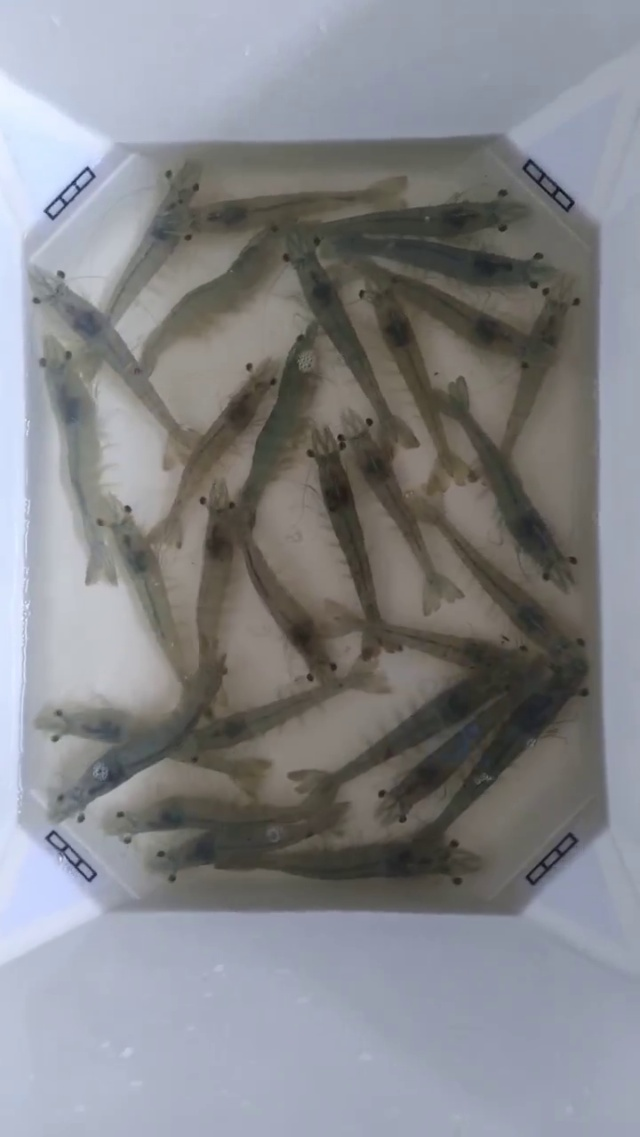shrimp: (521, 418, 639, 704), (566, 108, 639, 486), (566, 489, 639, 785), (68, 453, 170, 655), (20, 639, 125, 828), (58, 757, 186, 904), (149, 383, 255, 551), (398, 759, 514, 912), (70, 294, 186, 443), (87, 759, 204, 902), (167, 148, 272, 297), (259, 562, 363, 709), (325, 715, 416, 877), (500, 273, 576, 457), (0, 150, 52, 418), (169, 473, 251, 631), (169, 627, 259, 770), (337, 338, 418, 496), (499, 158, 580, 304), (319, 208, 427, 301), (304, 408, 362, 549), (406, 397, 472, 517), (193, 357, 282, 443)
